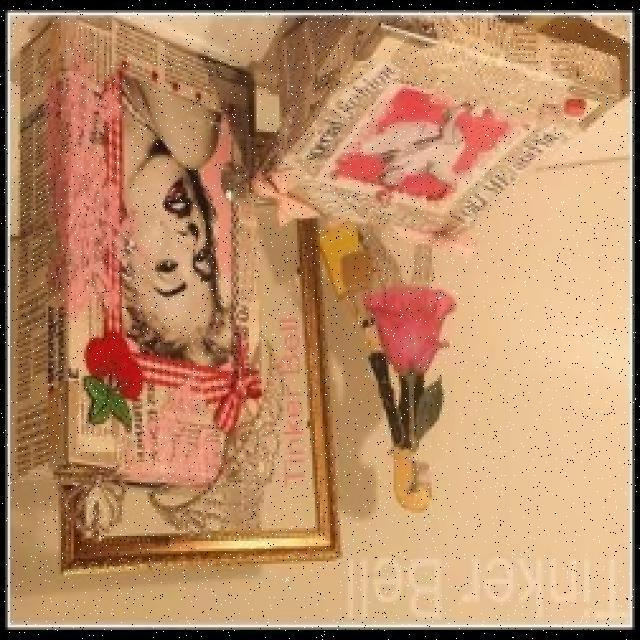box: (1, 24, 260, 495), (221, 0, 612, 275)
